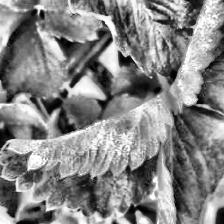Powdery Mildew Leaf: (0, 89, 173, 222), (63, 0, 195, 78), (165, 0, 224, 119)
